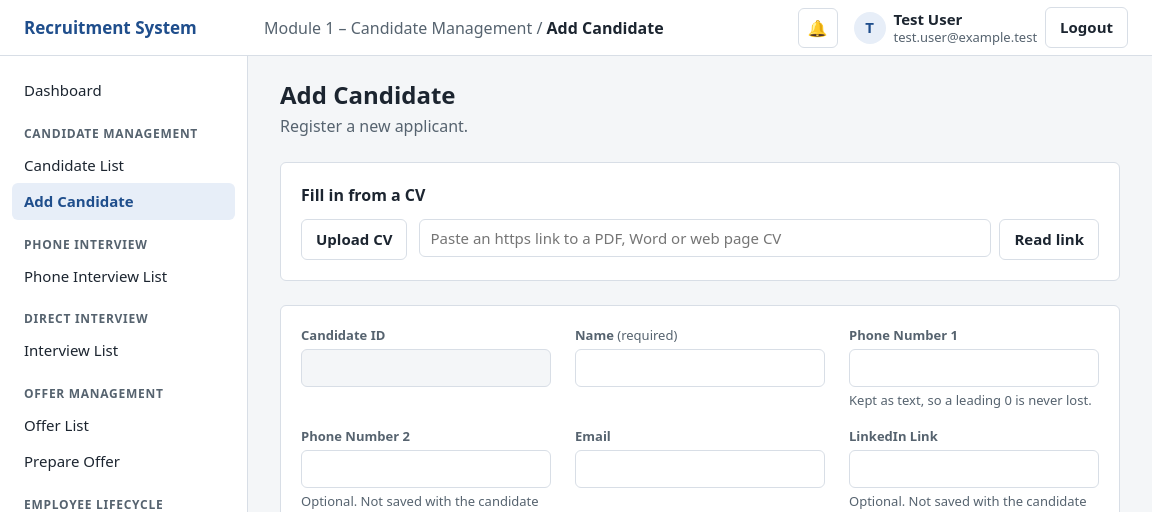
reading a CV link with the Read link button › a link the backend refuses shows the reason and keeps the pasted link
Expected: the file field labelled "Upload CV" is shown, [301, 219, 408, 260]
Type "https://cv.example.test/anusha.pdf" into the field named "CV link" at x=706, y=238, box [420, 219, 992, 257]
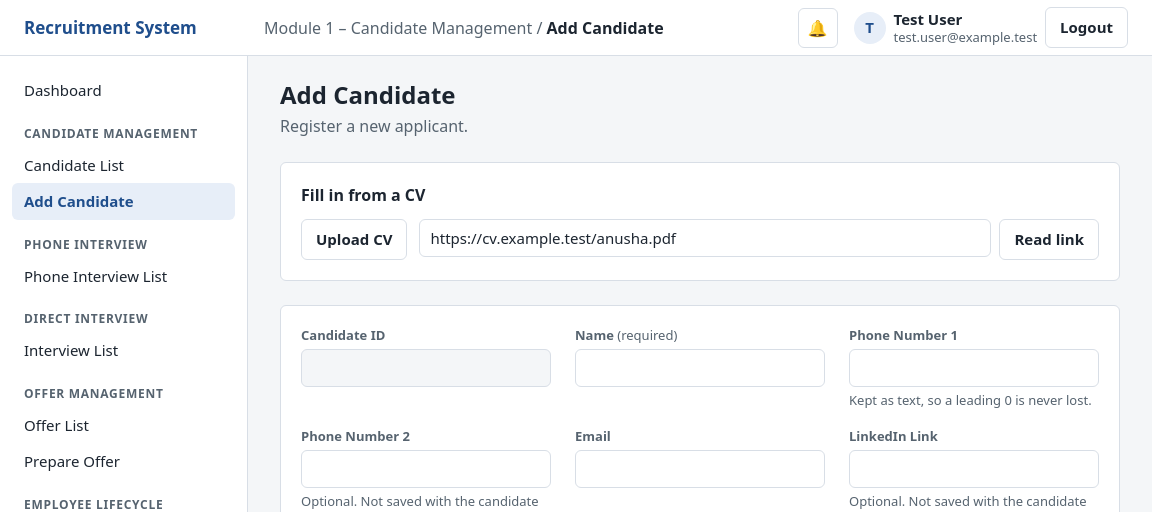
Click the button "Read link" at x=1049, y=239, box [1000, 219, 1099, 260]
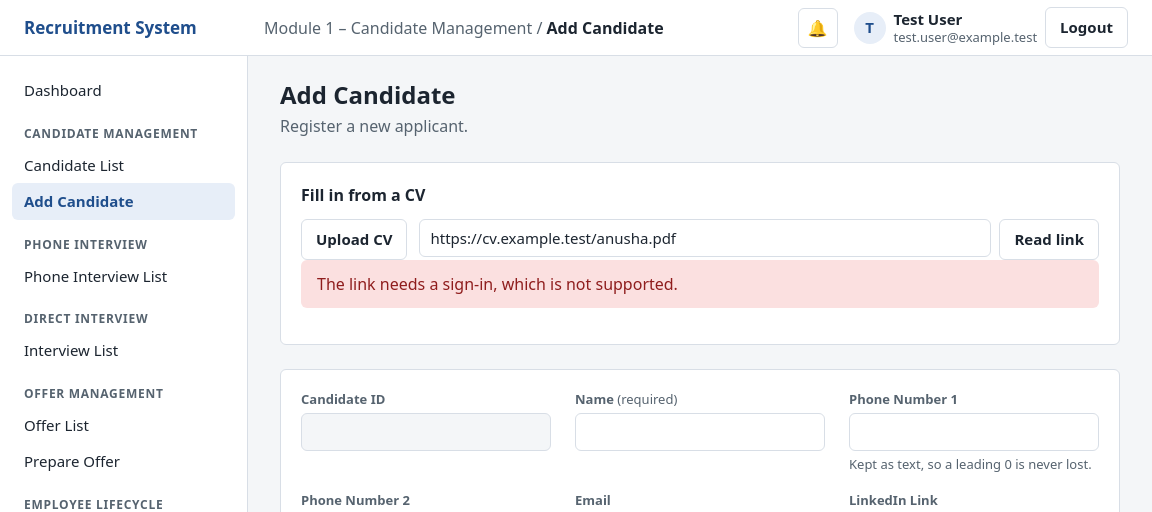
Result: the message shows "needs a sign-in" at [317, 272, 678, 294]
